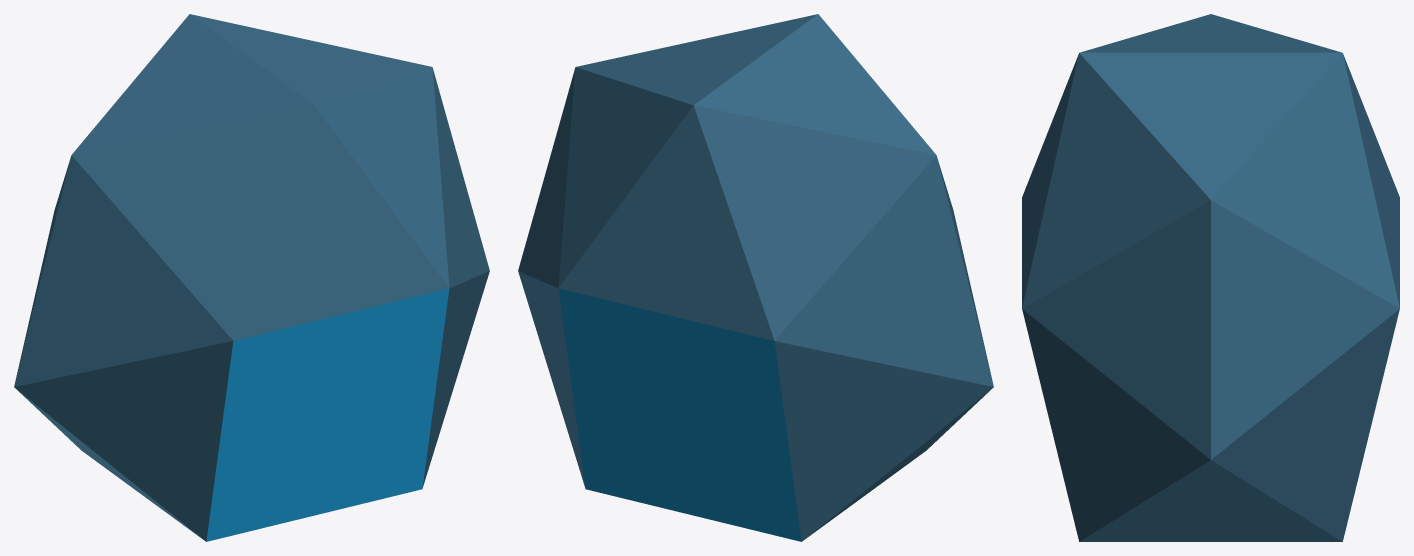
The model's file is J89.Hebesfenomegacorona.gltf.
3 views of the same model, side by side, from view 1: azimuth 30°, elevation 25°; view 2: azimuth 150°, elevation 25°; view 3: azimuth 270°, elevation 25° (orthographic). The views are drawn at different scales.
Visible parts, largest first — view 1: J89.Hebesfenomegacorona; view 2: J89.Hebesfenomegacorona; view 3: J89.Hebesfenomegacorona.
Boxes of the visible parts, <box> form: J89.Hebesfenomegacorona: <box>14,14,489,541</box>; J89.Hebesfenomegacorona: <box>518,14,993,541</box>; J89.Hebesfenomegacorona: <box>1022,14,1399,541</box>.
Size of the model in its own units: 18.27 by 15.05 by 11.89.
